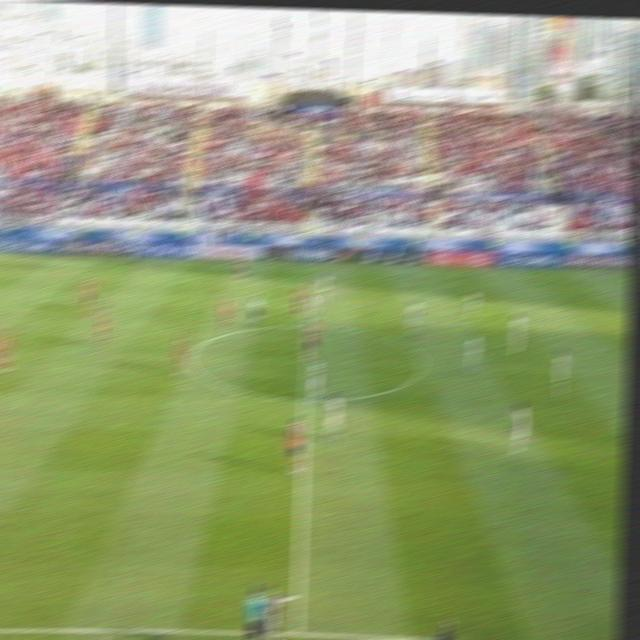halfcircle_bottom: (293, 388, 316, 411)
halfcircle_top: (295, 319, 319, 335)
midline_bottom_intersection: (281, 620, 311, 640)
midline_top_intersection: (299, 260, 316, 274)
